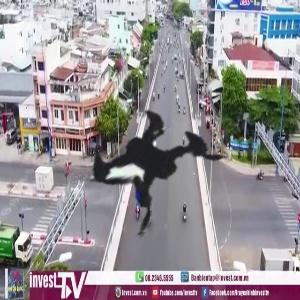drone: (19, 22, 280, 283)
